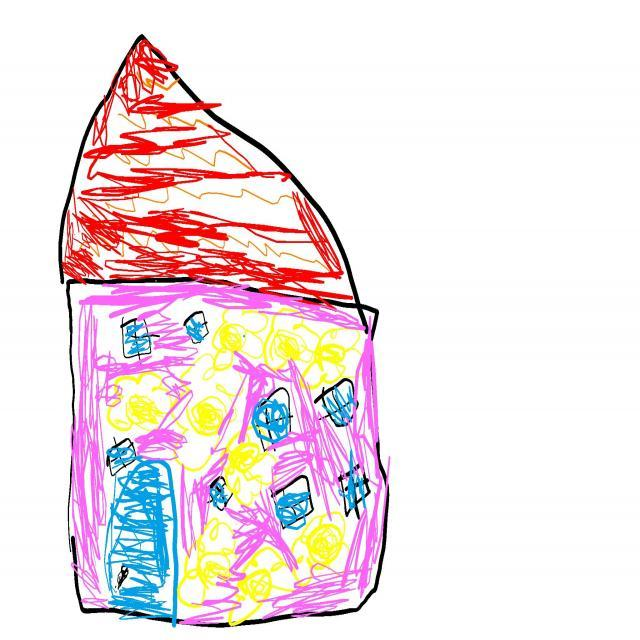door: (103, 460, 176, 623)
house: (59, 35, 388, 626)
roof: (61, 35, 359, 302)
wall: (65, 277, 386, 631)
window: (252, 388, 291, 450), (273, 476, 314, 530), (315, 379, 359, 428), (339, 466, 372, 516), (120, 319, 151, 358), (106, 439, 136, 476), (209, 477, 233, 512), (184, 311, 209, 344)
